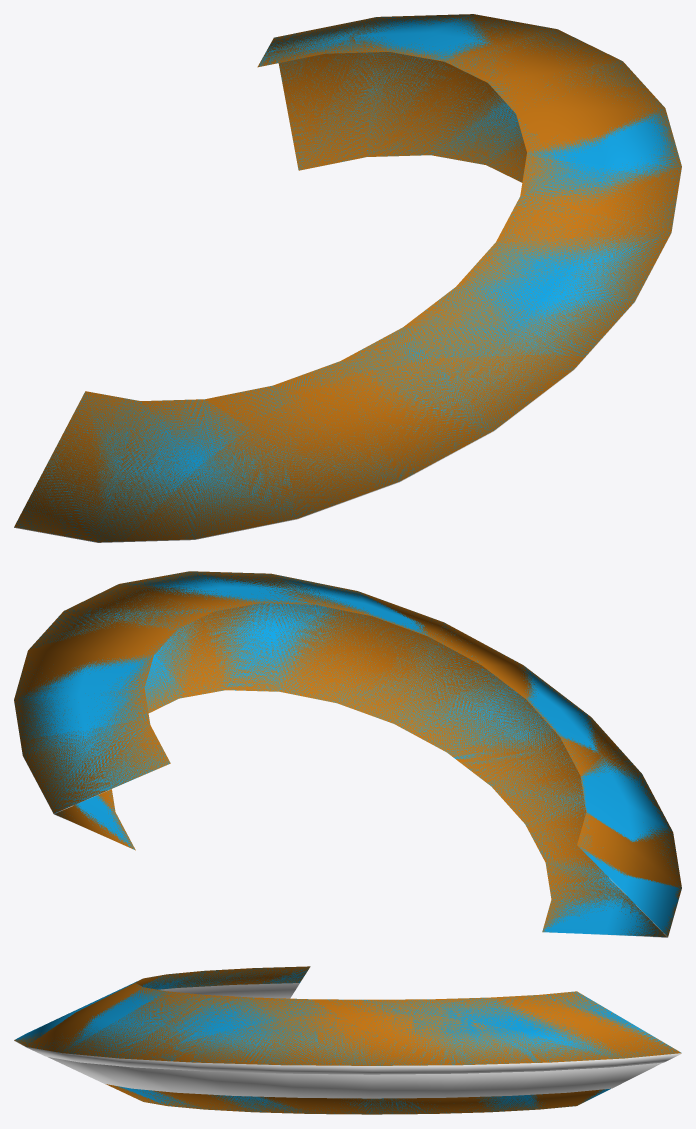
File: cjqb2.FBX
The picture shows the model from 3 angles, top to bottom: view 1: azimuth 30°, elevation 25°; view 2: azimuth 150°, elevation 25°; view 3: azimuth 270°, elevation 25°; orthographic projection. The views are drawn at different scales.
Visible parts, largest first — view 1: Tube01, Tube03; view 2: Tube01, Tube03; view 3: Tube01, Tube03, Tube02, Tube04.
Part boxes in pixels (left/top/right/bottom): Tube01: left=14, top=14, right=681, bottom=542; Tube03: left=15, top=14, right=681, bottom=541; Tube01: left=14, top=571, right=681, bottom=936; Tube03: left=14, top=571, right=681, bottom=936; Tube01: left=14, top=966, right=681, bottom=1114; Tube03: left=15, top=967, right=681, bottom=1114; Tube02: left=14, top=983, right=680, bottom=1098; Tube04: left=14, top=1040, right=681, bottom=1074.
Bounding box in the file's own units: 276 × 281 × 115.
